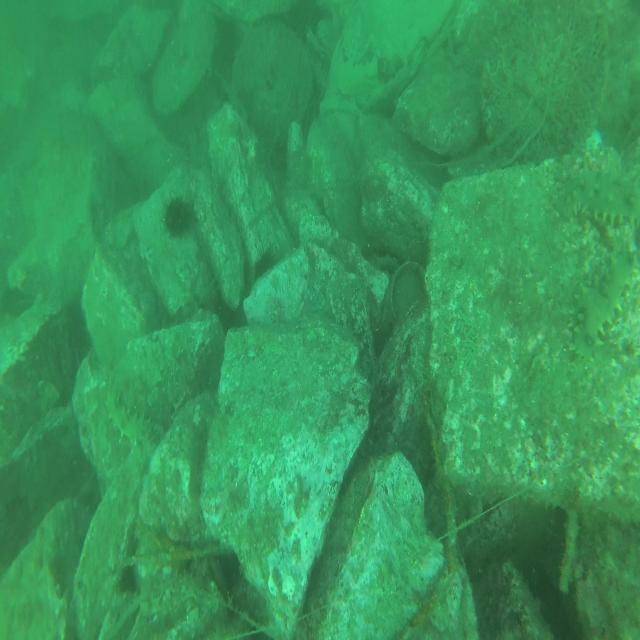echinus: (164, 193, 195, 238)
holothurian: (568, 238, 637, 366), (566, 165, 638, 227)
